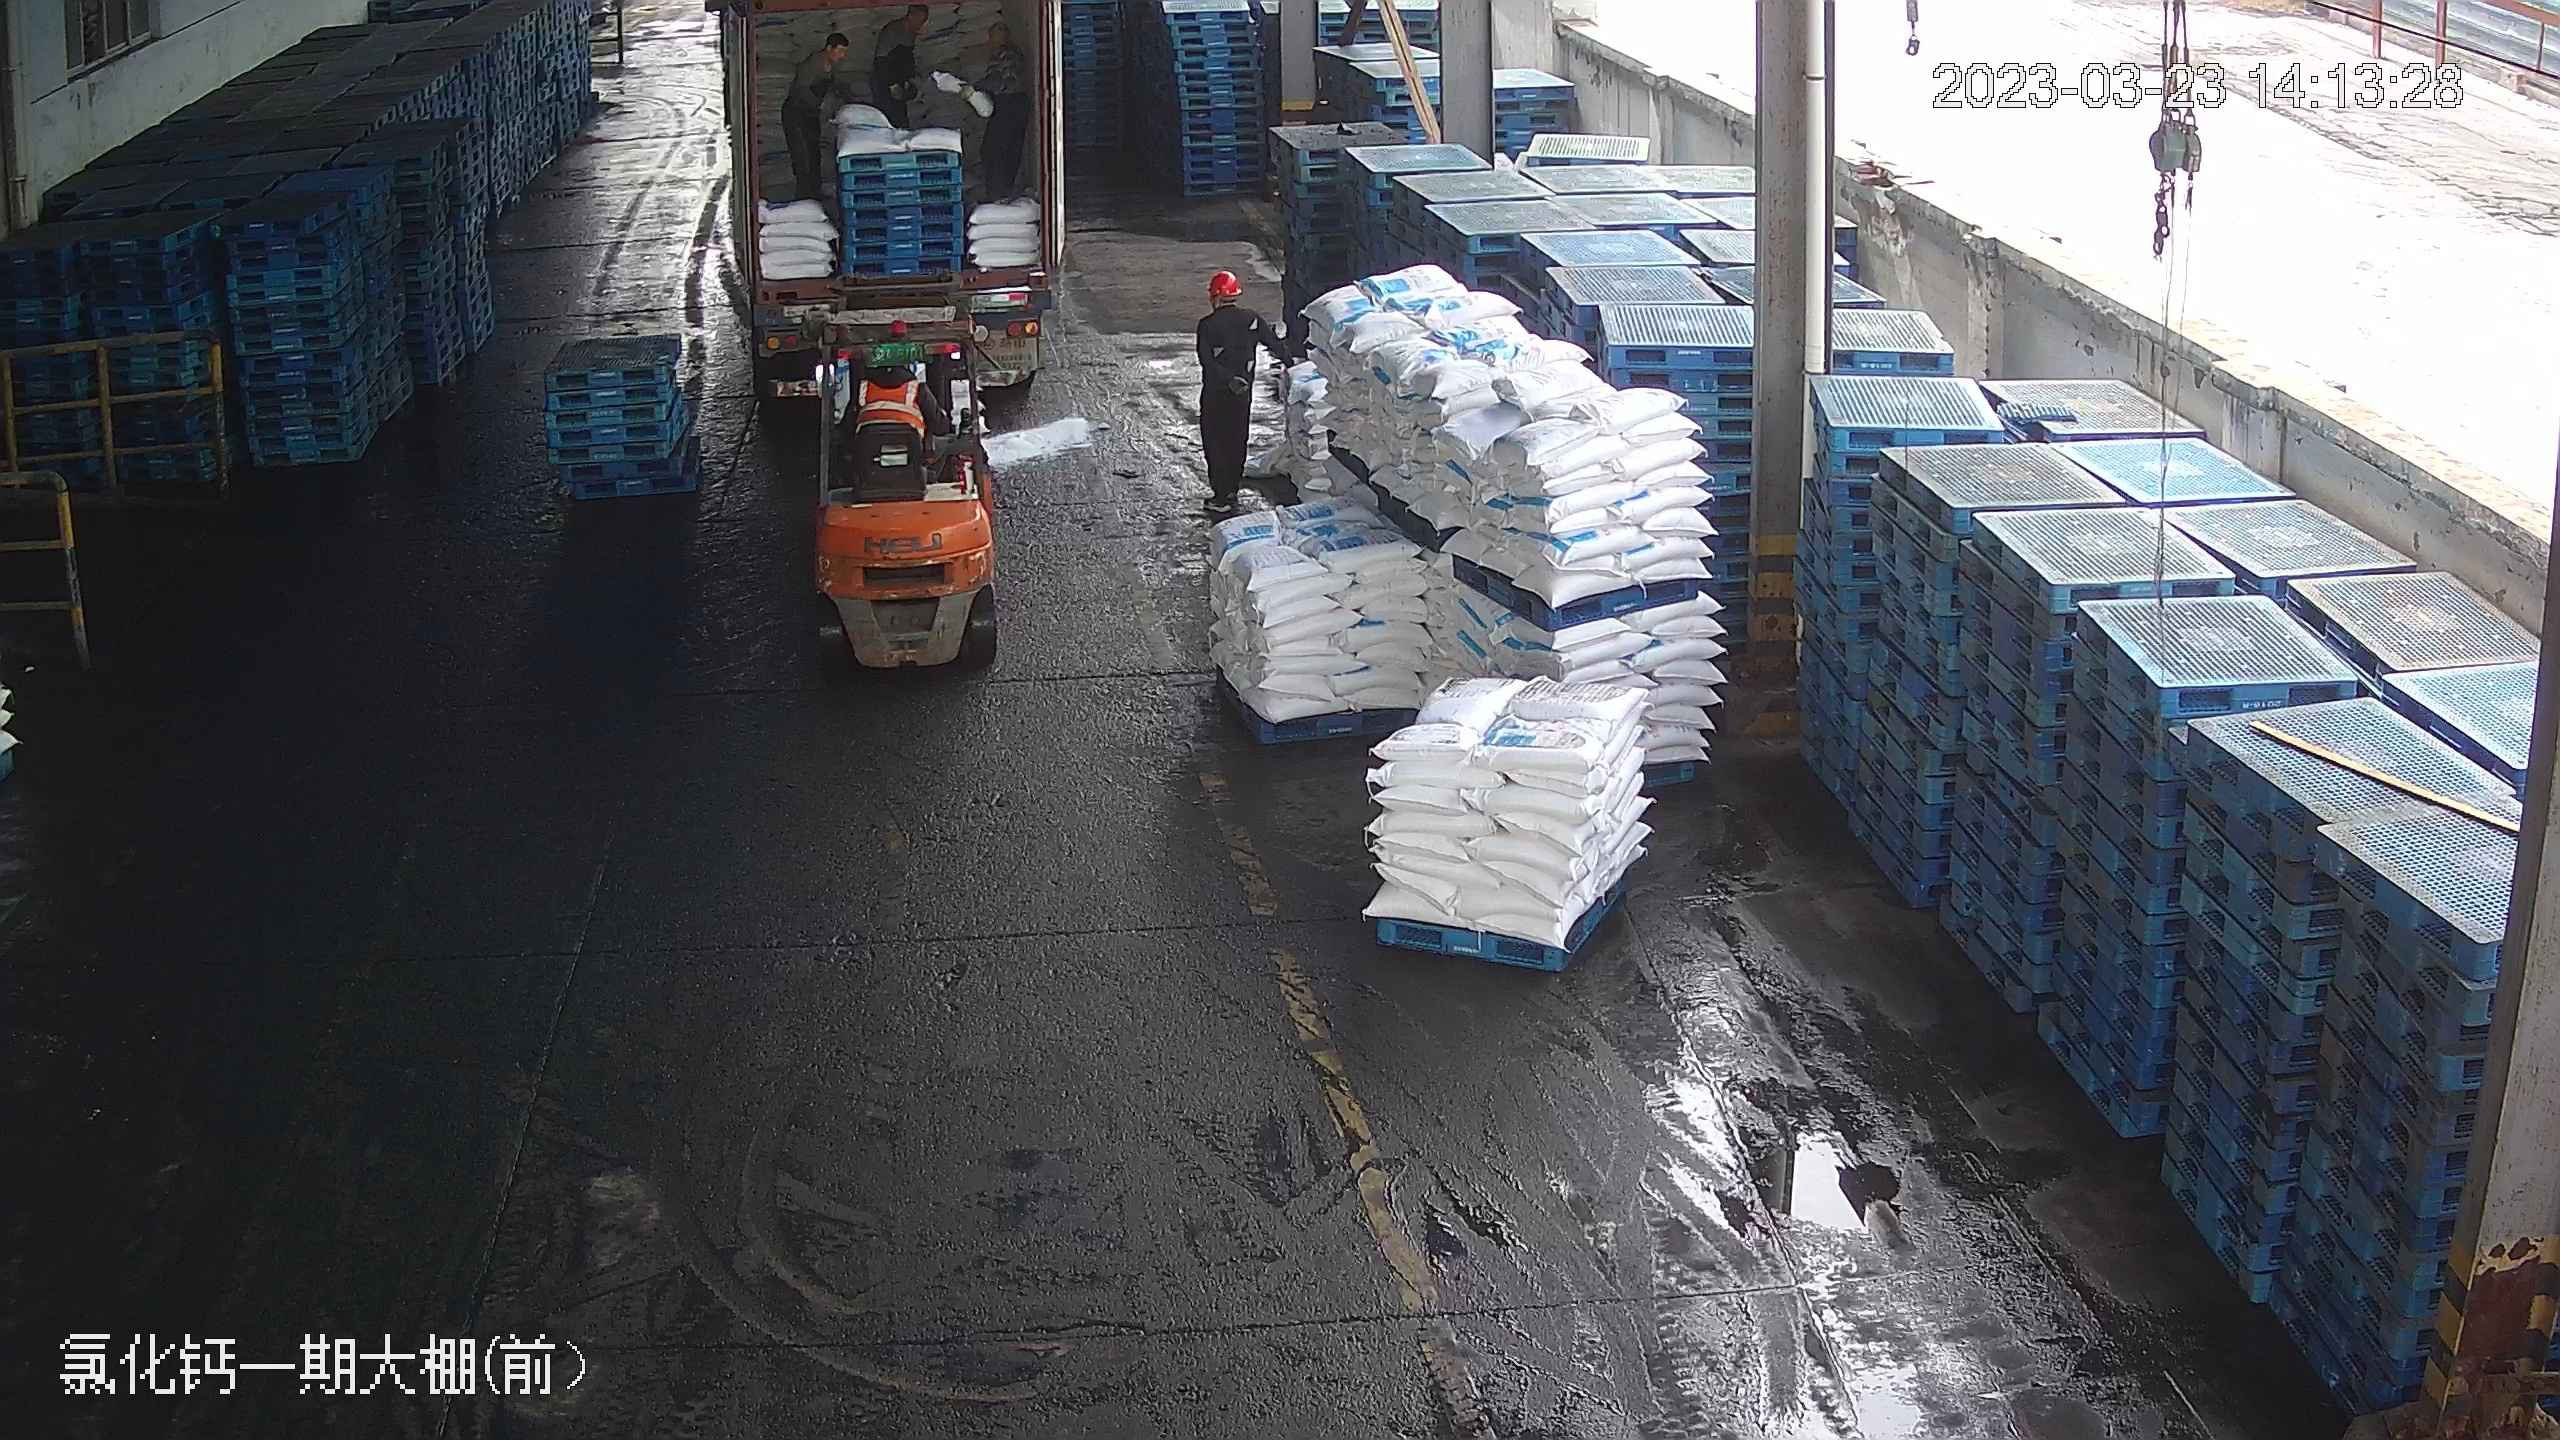head: (1193, 266, 1259, 348), (976, 19, 1026, 91), (875, 4, 933, 67), (796, 38, 849, 89)
helmet: (1204, 267, 1243, 296)
people: (1190, 267, 1289, 521), (785, 30, 850, 204), (976, 16, 1036, 181), (869, 2, 933, 133)
truck: (726, 7, 1078, 420)
